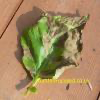Potato leaf early blight: (19, 11, 91, 82)
